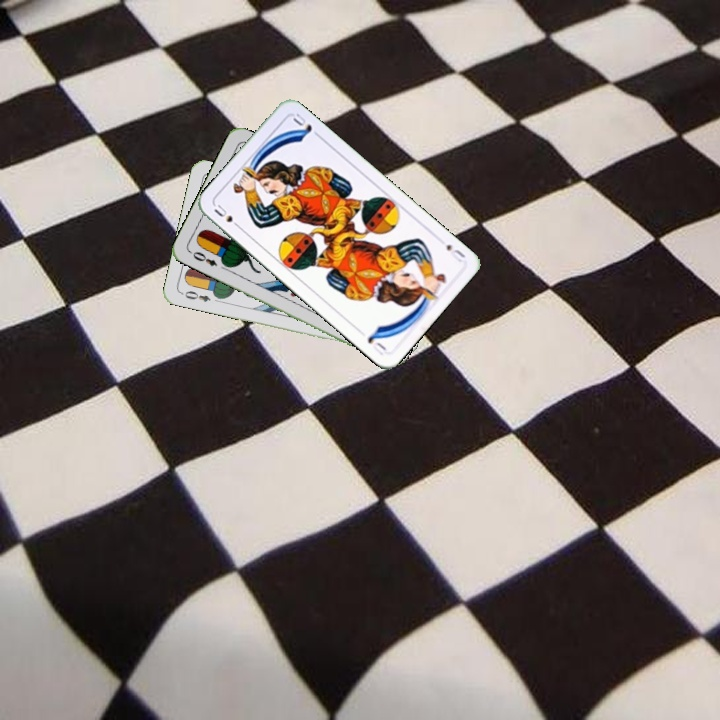EO: (186, 247, 220, 269), (177, 287, 213, 305)
SU: (210, 200, 244, 232), (442, 240, 468, 265)
